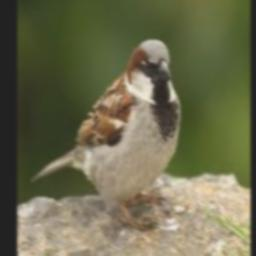Sparrow: (31, 39, 180, 232)
